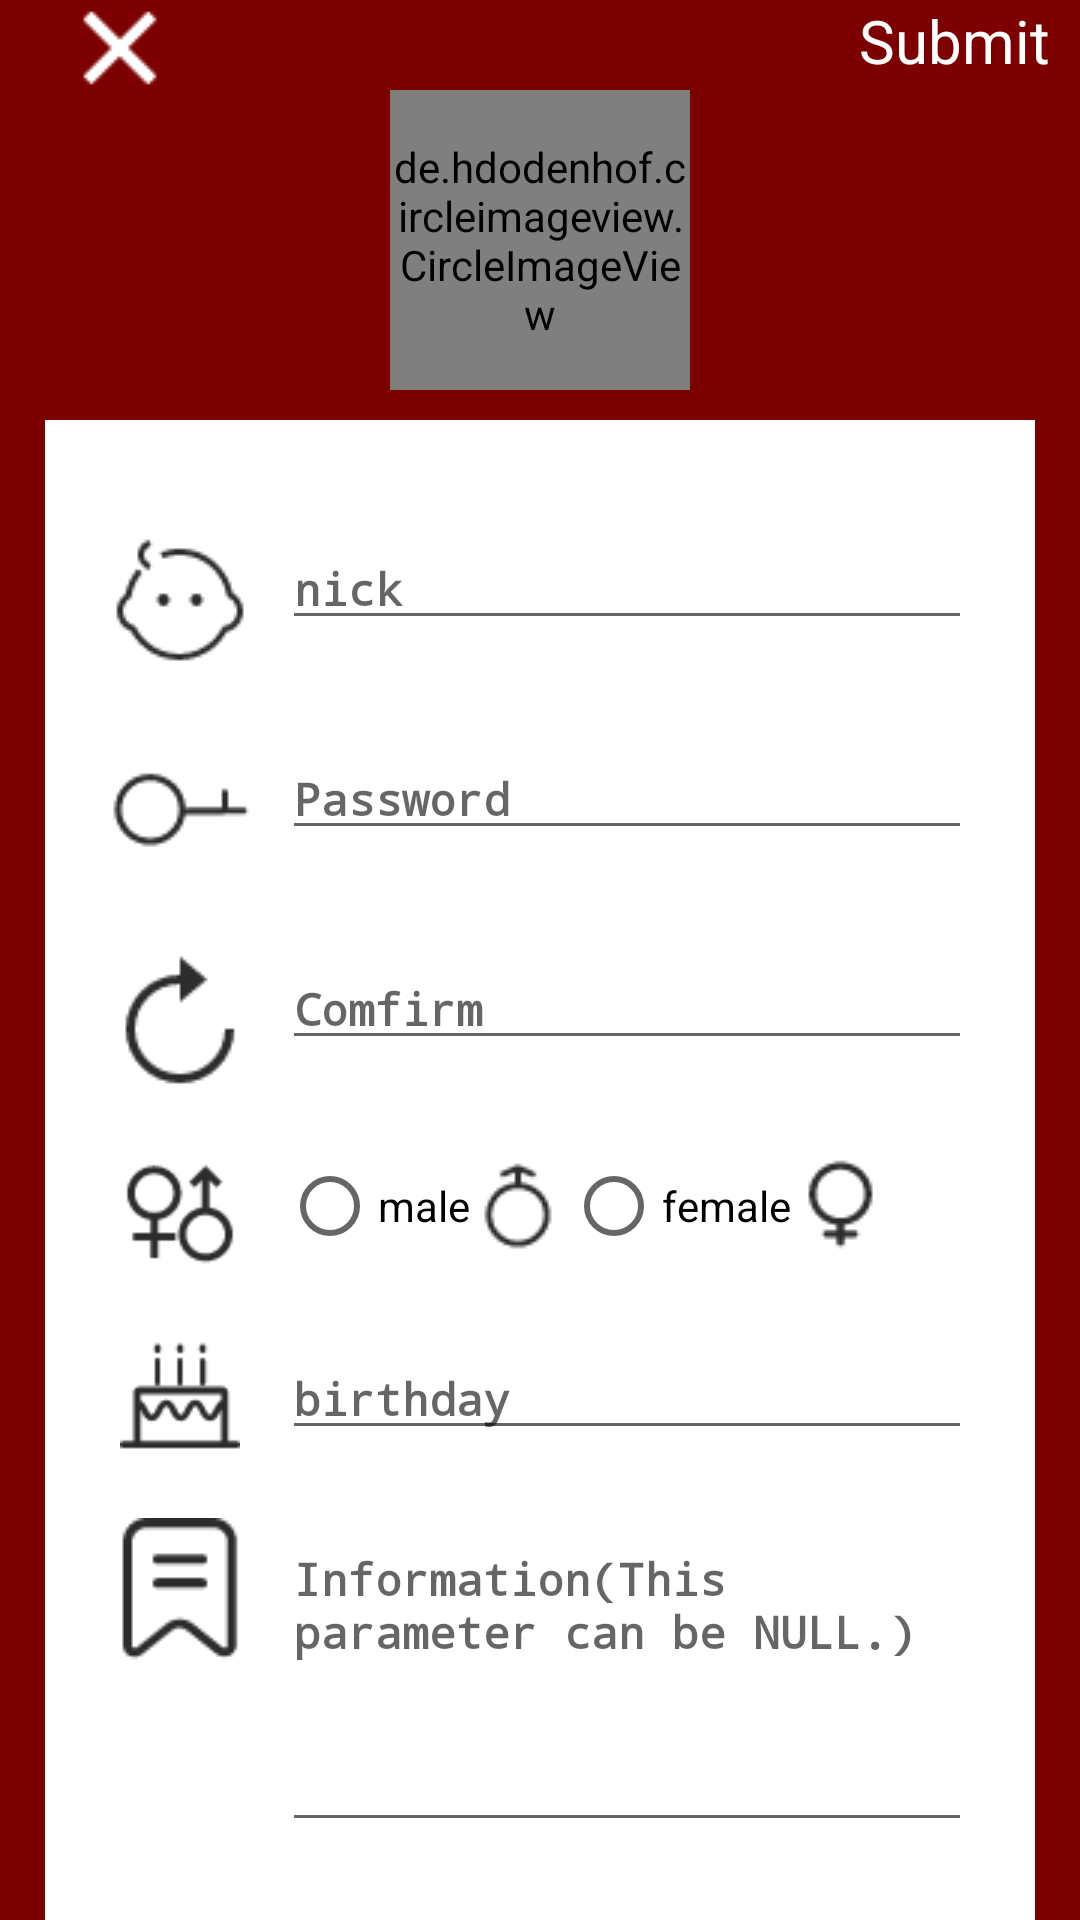

Screen size 1080×1920. Icon name, then its center in pixels as (x=x, y=y):
again: (x=180, y=1020)
cancel: (x=120, y=48)
sex: (x=180, y=1214)
